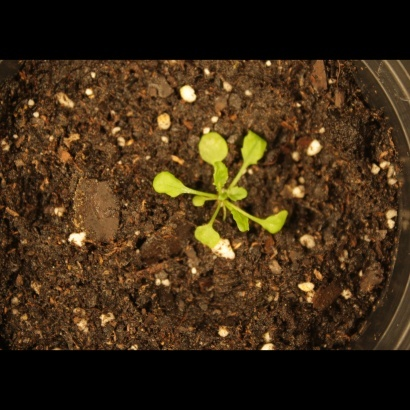leaf: (146, 169, 197, 201), (195, 128, 234, 168), (239, 126, 271, 169), (190, 219, 226, 253), (225, 202, 255, 236), (261, 207, 293, 236), (208, 160, 231, 194), (187, 192, 210, 215), (226, 181, 249, 204)
